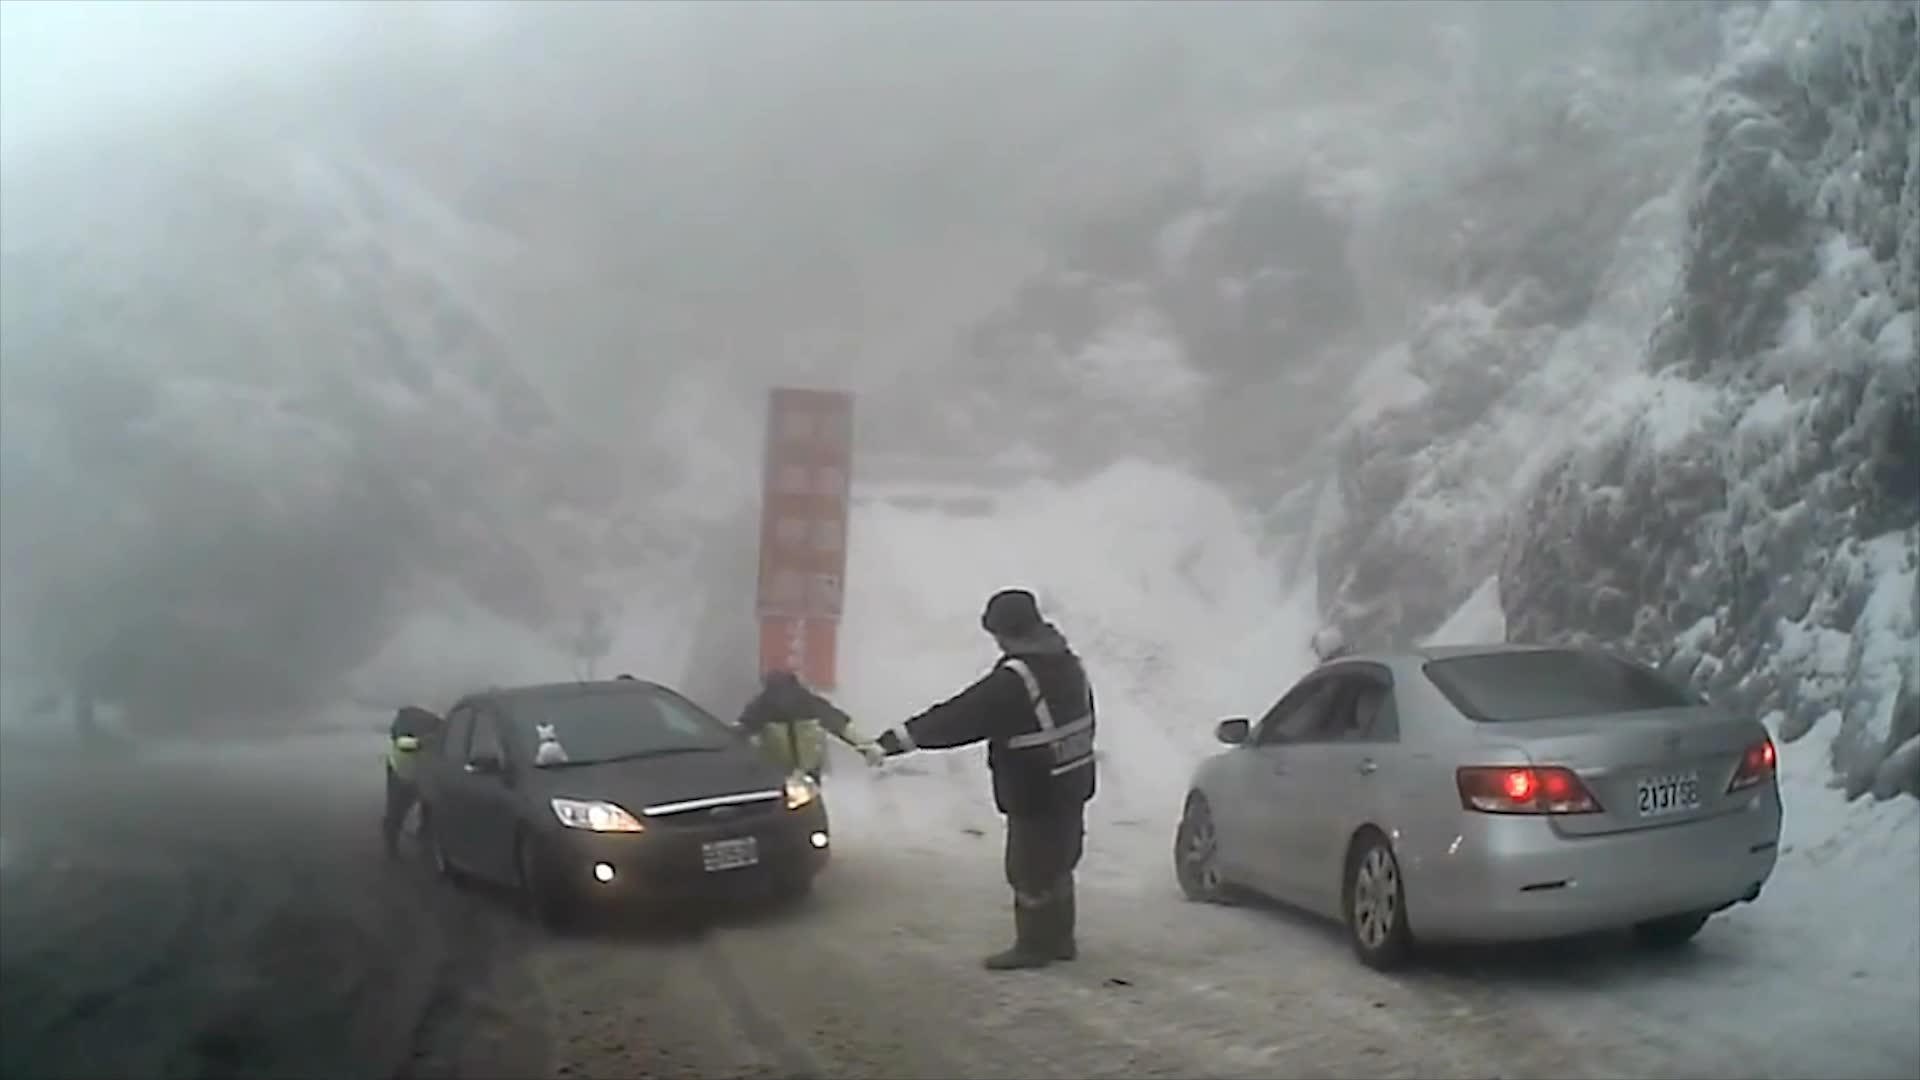pedestrian: (874, 589, 1102, 971), (730, 664, 883, 866), (1303, 622, 1373, 826), (379, 710, 465, 856)
vehicle: (1173, 644, 1783, 971), (413, 675, 831, 937)
